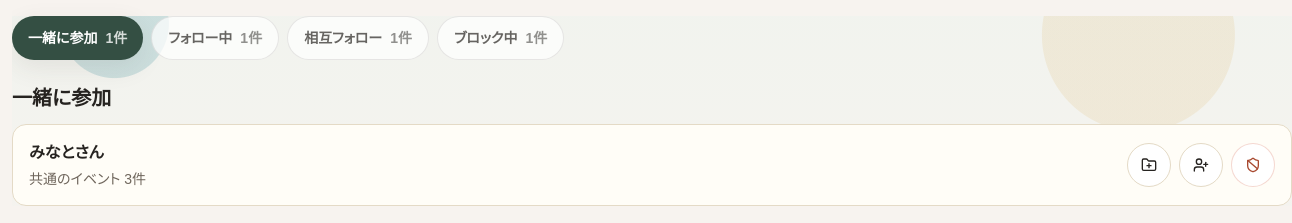
Test case: ConnectionList › shows filters with counts and only the selected group
Expected: the tab "相互フォロー 1件" is shown, [287, 16, 429, 60]
Expected: the tab "ブロック中 1件" is shown, [437, 16, 564, 60]
Click the tab "フォロー中 1件".
click(215, 38)  # box [151, 16, 279, 60]
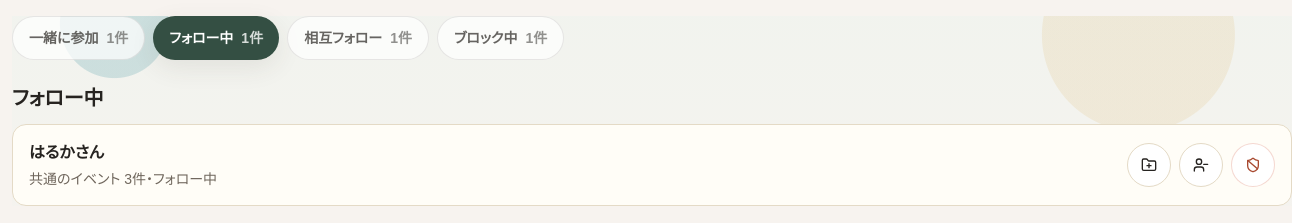
Expected: the button named "ブロック" is shown, [1231, 143, 1275, 187]
Now the text "はるかさん" is shown, box [29, 144, 104, 161]
Now the text "みなとさん" is gone
